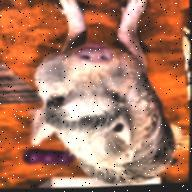boar: (20, 0, 183, 191)
